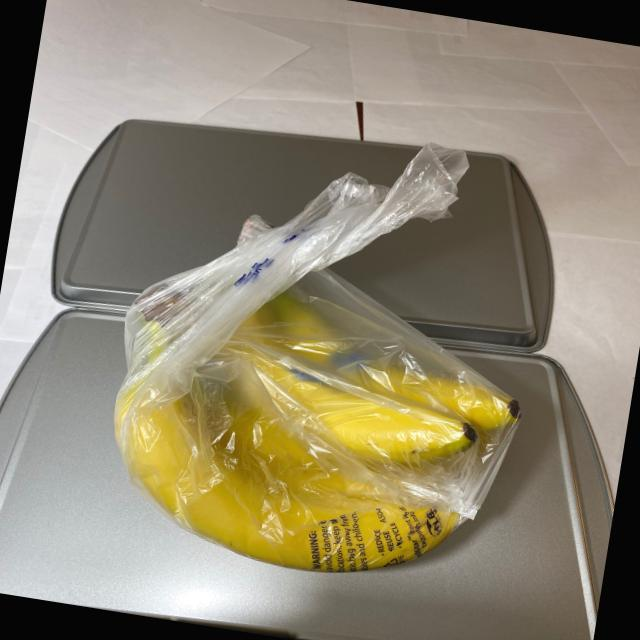banana: (86, 255, 535, 604)
